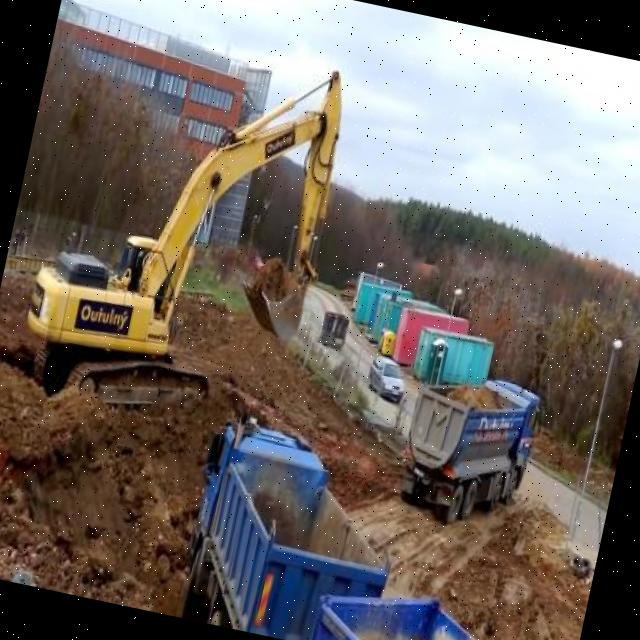Dump Truck: (169, 403, 417, 640), (380, 357, 550, 541)
Excavator: (0, 8, 364, 444)
